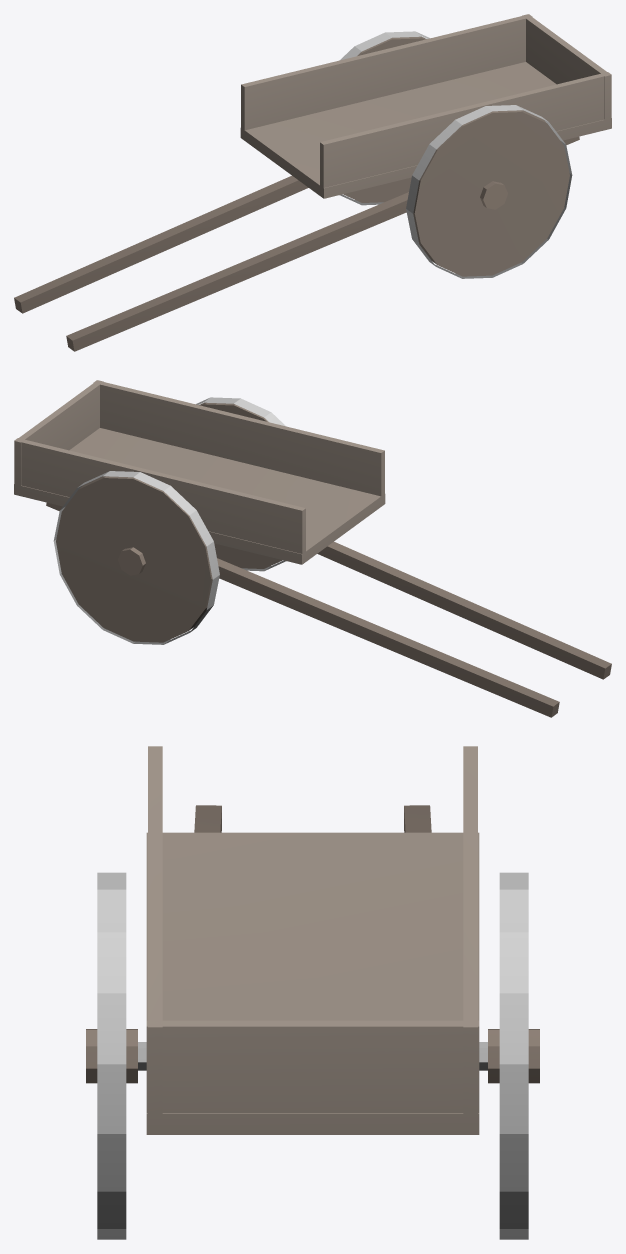
The model's file is cart_2.glb.
The picture shows the model from 3 angles, top to bottom: view 1: azimuth 30°, elevation 25°; view 2: azimuth 150°, elevation 25°; view 3: azimuth 270°, elevation 25°; orthographic projection. The views are drawn at different scales.
Visible parts, largest first — view 1: cart_2; view 2: cart_2; view 3: cart_2.
Boxes of the visible parts, x1=… form: cart_2: x1=14, y1=14, x2=611, y2=351; cart_2: x1=14, y1=380, x2=611, y2=717; cart_2: x1=86, y1=746, x2=539, y2=1239.
Size of the model in its own units: 4.21 by 1.27 by 1.57.
